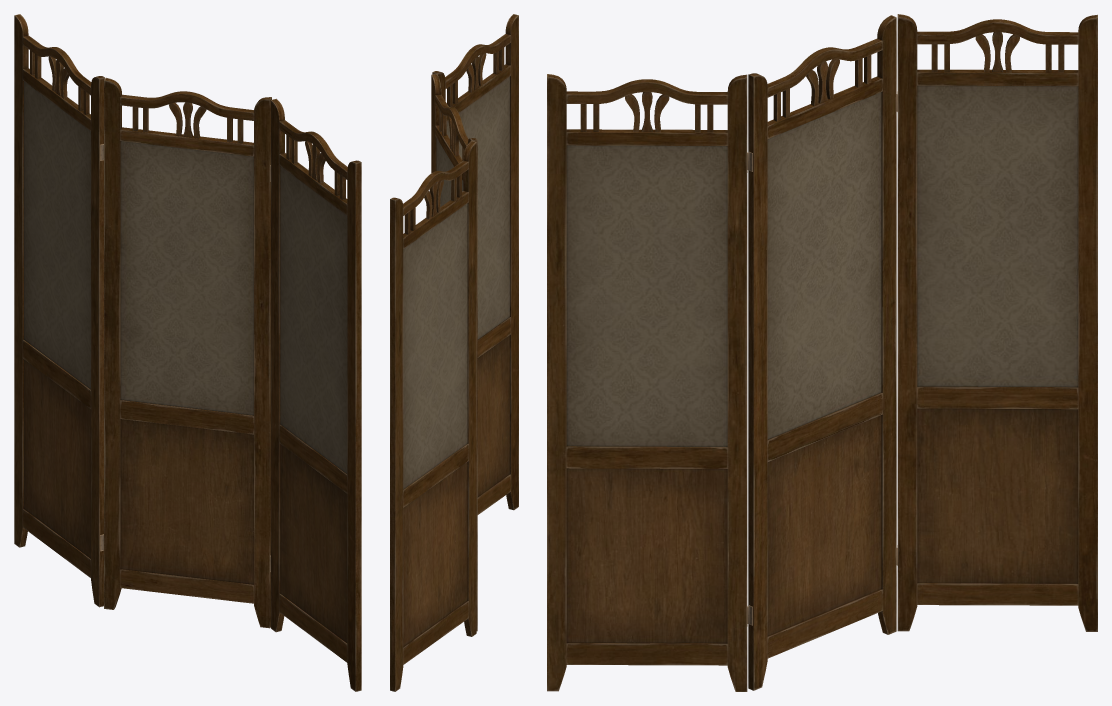
The model's file is screen-folding.glb.
3 renders of one model, left to right at view 1: azimuth 30°, elevation 25°; view 2: azimuth 150°, elevation 25°; view 3: azimuth 270°, elevation 25°, orthographic. The views are drawn at different scales.
Visible parts, largest first — view 1: screen-folding; view 2: screen-folding; view 3: screen-folding.
Boxes of the visible parts, <box> form: screen-folding: <box>14,14,361,691</box>; screen-folding: <box>390,14,518,691</box>; screen-folding: <box>547,14,1097,691</box>.
Bounding box in the file's own units: 0.4028 × 1.81 × 1.47.
1 material, 1 textured.
